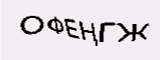Г: (54, 2, 80, 27)
Д: (35, 5, 53, 35)
Щ: (82, 1, 125, 25)
Э: (19, 10, 34, 35)
Я: (122, 5, 140, 26)
